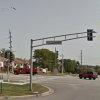Car: (75, 62, 100, 80)
